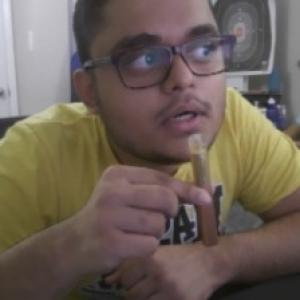Golden-E-Ciggirate: (187, 133, 225, 248)
